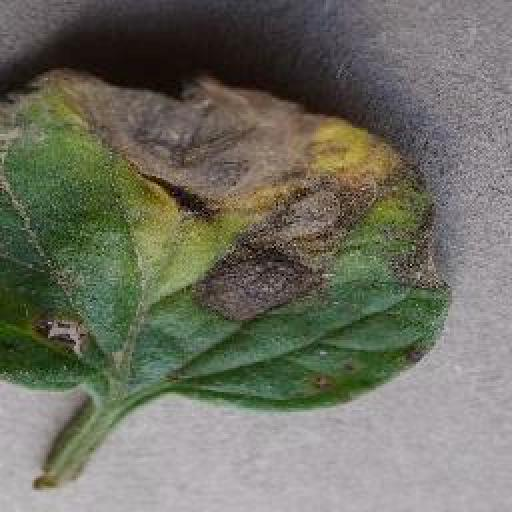Early Blight: (2, 68, 454, 412)
